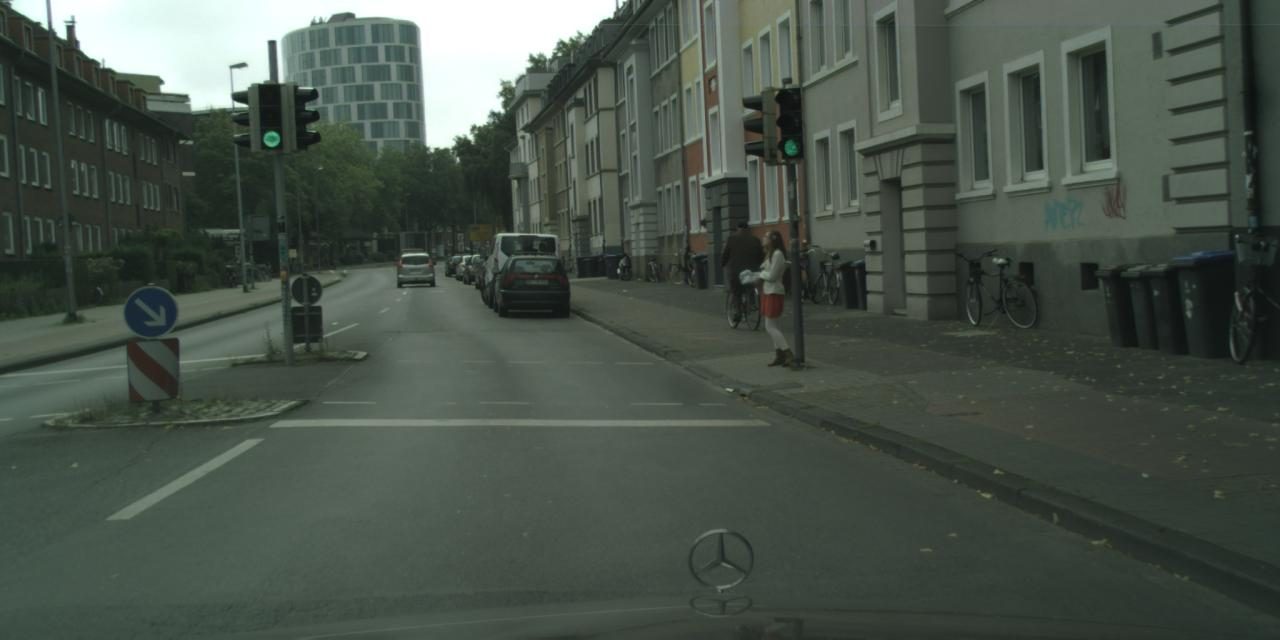ped: (750, 230, 805, 364), (724, 218, 762, 313)
